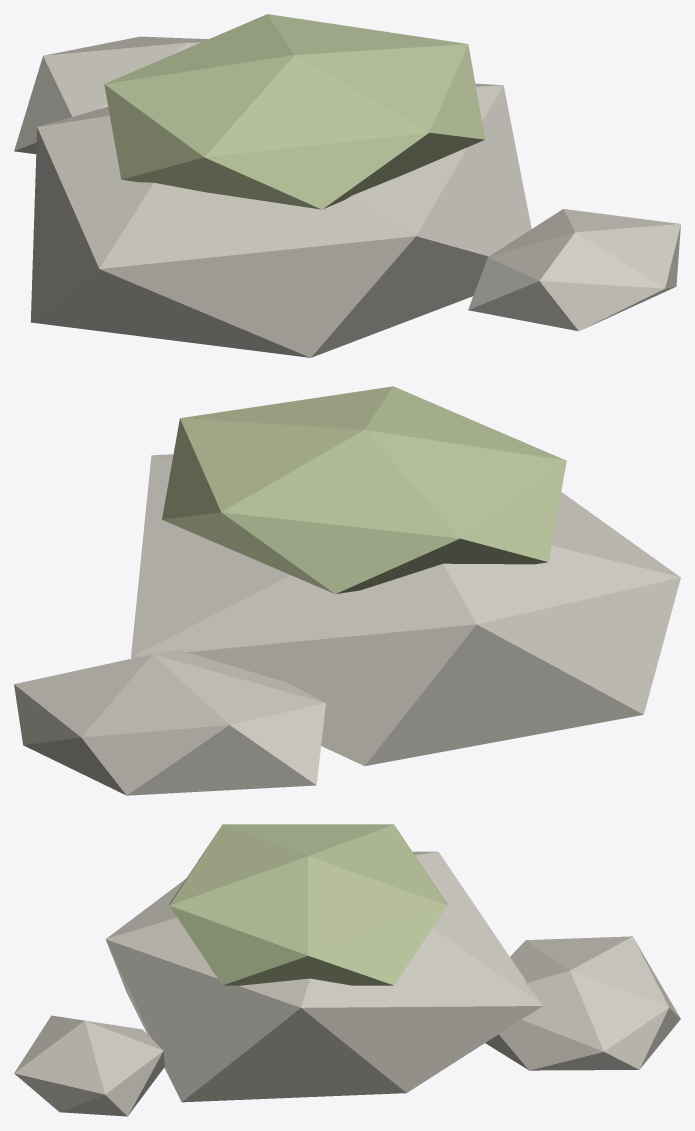
The model's file is boulder-b.glb.
3 views of the same model, one above another, from view 1: azimuth 30°, elevation 25°; view 2: azimuth 150°, elevation 25°; view 3: azimuth 270°, elevation 25° (orthographic). The views are drawn at different scales.
Parts seen in each view (by area): view 1: boulder-b; view 2: boulder-b; view 3: boulder-b.
Boxes of the visible parts, x1,y1,x2,y2 form: boulder-b: (14, 14, 680, 357); boulder-b: (14, 386, 680, 795); boulder-b: (14, 824, 680, 1116).
Bounding box in the file's own units: 1.48 × 0.5412 × 1.87.
